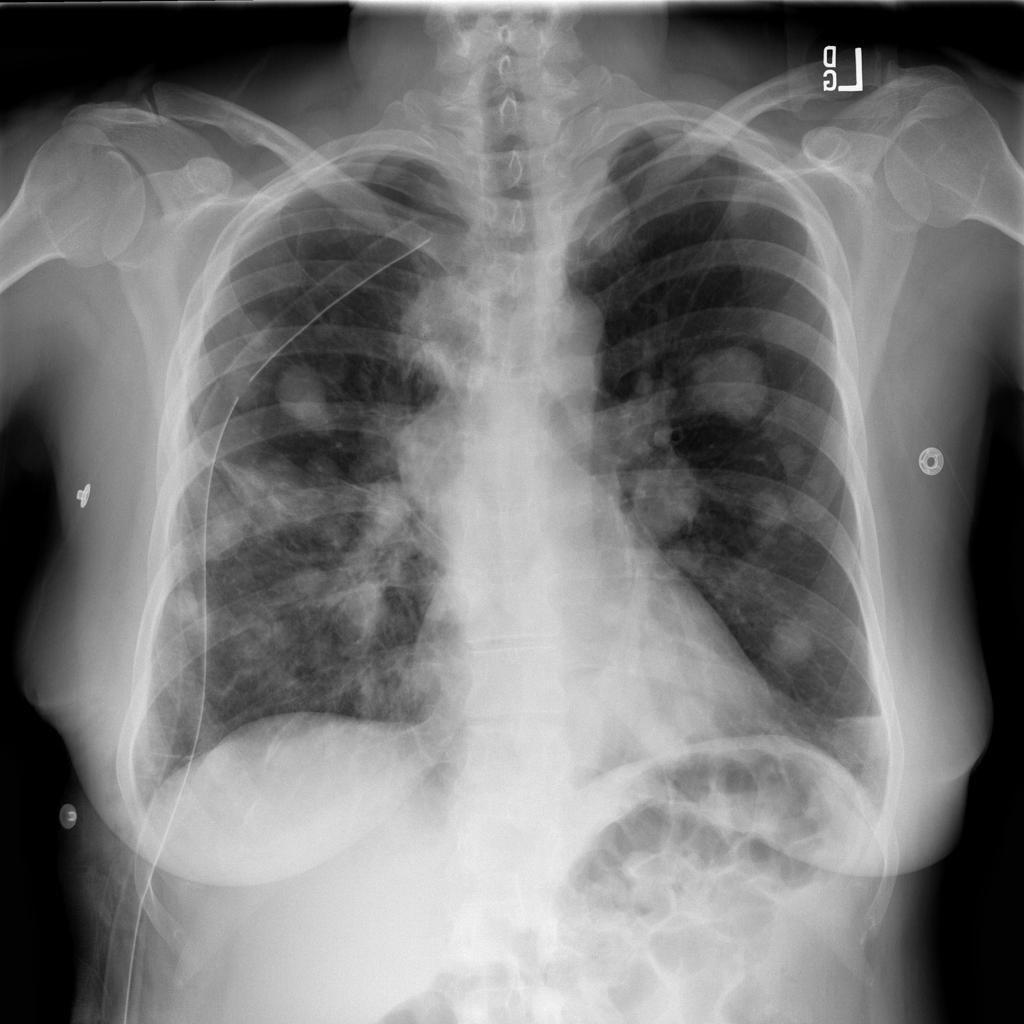nodule: (677, 324, 786, 437), (611, 448, 717, 549), (551, 162, 650, 266), (320, 567, 397, 645), (272, 356, 346, 434), (755, 603, 829, 679), (191, 487, 262, 566), (224, 604, 300, 672), (824, 704, 893, 777), (736, 476, 804, 549), (204, 361, 273, 432), (155, 571, 219, 642), (281, 555, 339, 605), (290, 445, 349, 490), (234, 301, 287, 350), (299, 300, 349, 348)
